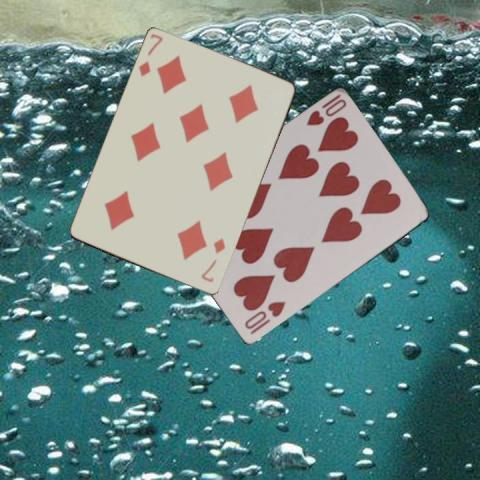10h: (241, 298, 288, 337), (303, 91, 348, 128)
7d: (198, 235, 227, 284), (136, 31, 165, 79)
